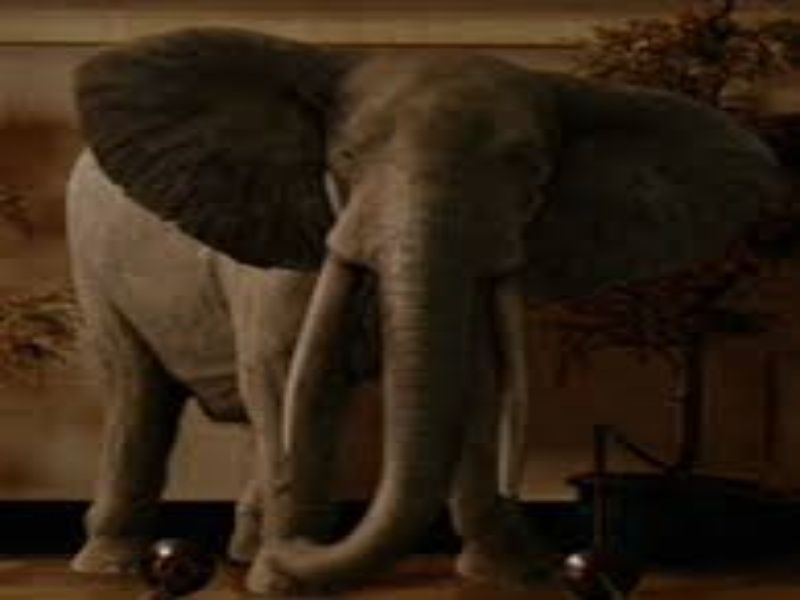elephant: (57, 32, 726, 573)
